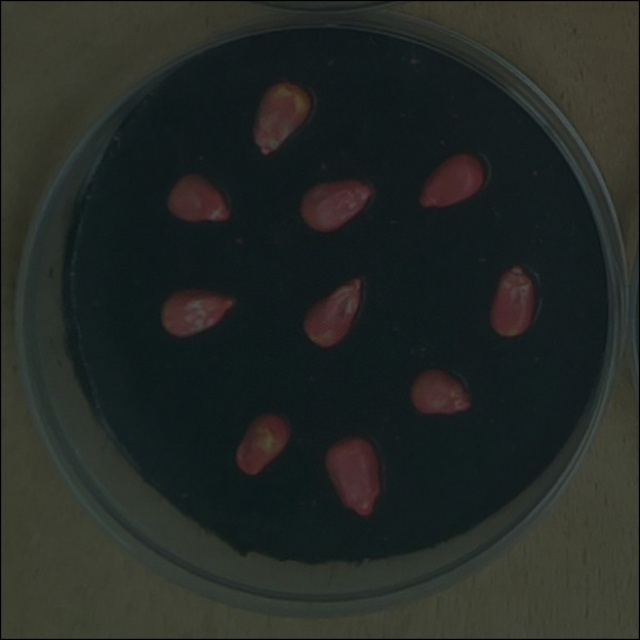Zea mays: (319, 424, 388, 523), (246, 75, 319, 160), (297, 270, 370, 354), (295, 171, 380, 238), (153, 280, 241, 343), (412, 144, 491, 213), (160, 165, 240, 231), (229, 404, 297, 481), (482, 257, 542, 342), (403, 359, 479, 420)
